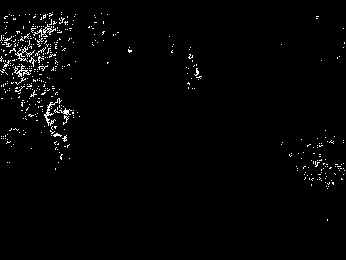person: (46, 94, 78, 167), (180, 52, 206, 96)
